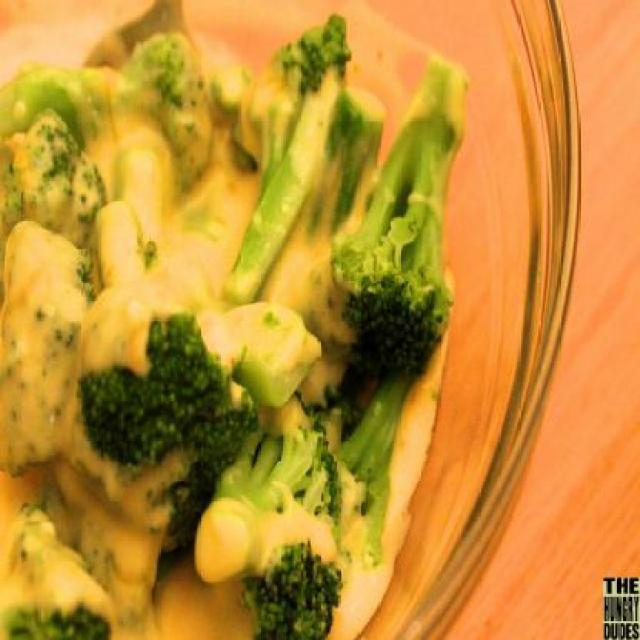Broccoli: (0, 12, 469, 638)
